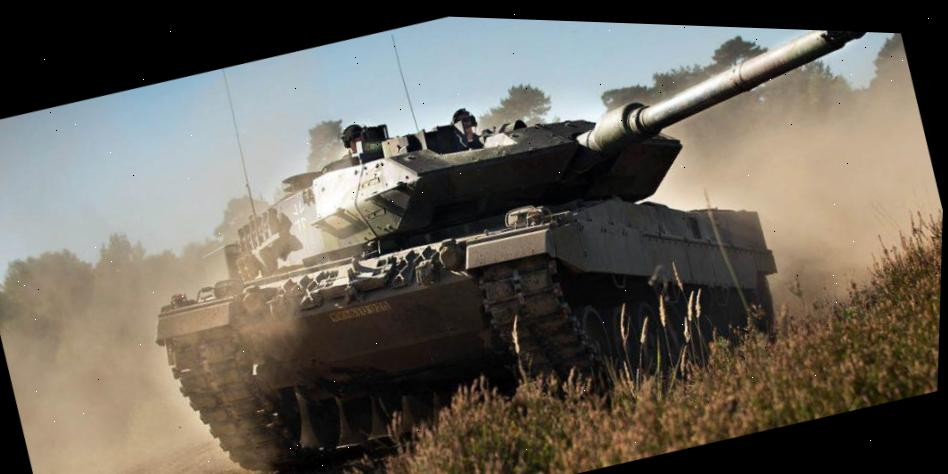tank: (110, 5, 948, 474)
